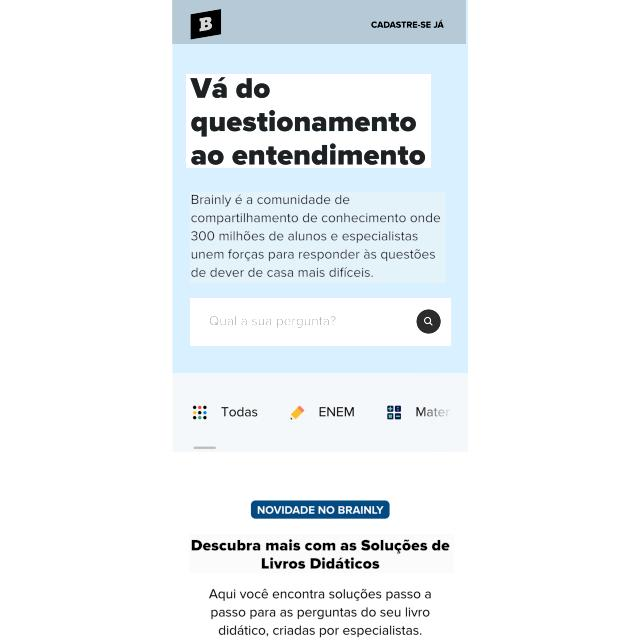CheckBox: (415, 308, 441, 334)
CheckedTextView: (190, 298, 451, 346)
Input field: (190, 192, 446, 283)
bag: (172, 0, 466, 44)
breadcrumbs: (189, 534, 454, 573)
date picker: (190, 8, 222, 40)
footer: (208, 311, 338, 330)
image: (186, 74, 431, 168)
